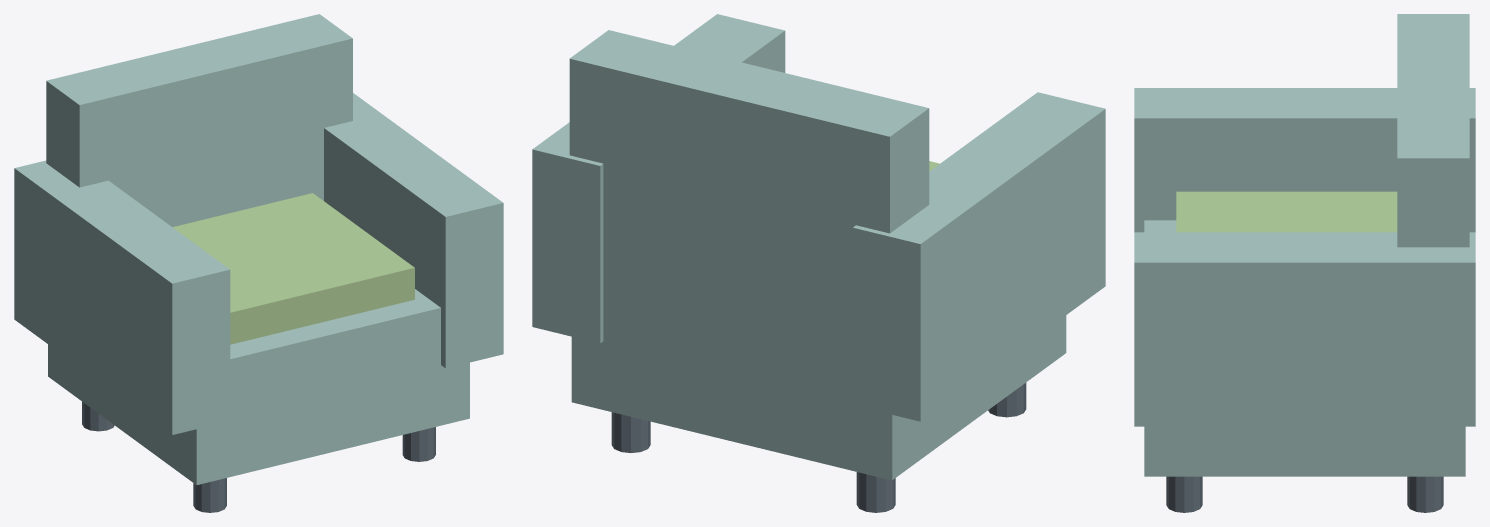
Rendered from armchair.glb.
The picture shows the model from 3 angles, left to right: view 1: azimuth 30°, elevation 25°; view 2: azimuth 150°, elevation 25°; view 3: azimuth 270°, elevation 25°; orthographic projection. The views are drawn at different scales.
Visible parts, largest first — view 1: armchair_005, armchair_006, armchair_004, armchair_007, armchair_008, armchair_000, armchair_002, armchair_001; view 2: armchair_005, armchair_006, armchair_004, armchair_007, armchair_001, armchair_003, armchair_000; view 3: armchair_007, armchair_006, armchair_005, armchair_004, armchair_008, armchair_002, armchair_003.
Part boxes in pixels (x1,y1,x2,y2): armchair_005: [46, 14, 352, 226]; armchair_006: [14, 160, 230, 434]; armchair_004: [48, 289, 469, 485]; armchair_007: [324, 93, 503, 368]; armchair_008: [172, 193, 414, 344]; armchair_000: [193, 478, 226, 512]; armchair_002: [402, 427, 435, 461]; armchair_001: [82, 401, 114, 431]; armchair_005: [569, 30, 929, 403]; armchair_006: [852, 92, 1105, 421]; armchair_004: [571, 315, 1066, 480]; armchair_007: [532, 14, 785, 343]; armchair_001: [856, 472, 895, 512]; armchair_003: [611, 412, 650, 452]; armchair_000: [988, 382, 1026, 417]; armchair_007: [1134, 232, 1475, 426]; armchair_006: [1134, 88, 1475, 232]; armchair_005: [1397, 14, 1469, 247]; armchair_004: [1144, 220, 1465, 476]; armchair_008: [1176, 191, 1397, 232]; armchair_002: [1166, 476, 1202, 512]; armchair_003: [1407, 476, 1443, 512].
Size of the model in its own units: 1.03 by 1 by 0.85.
